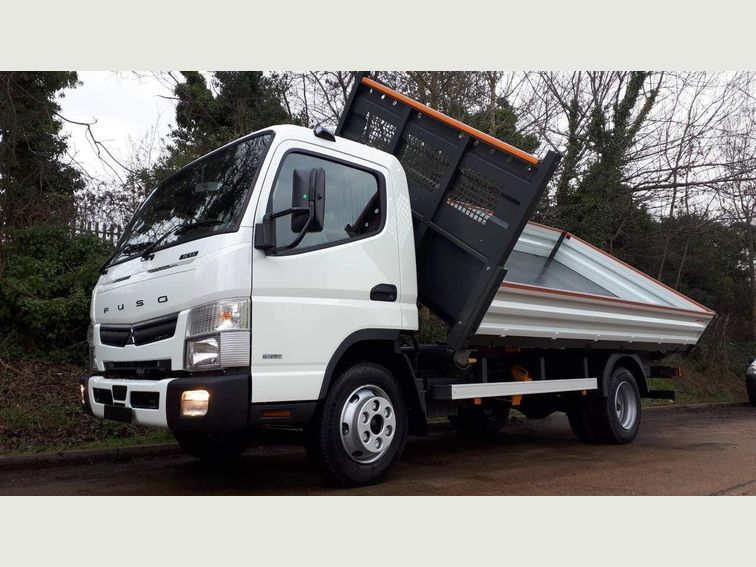Semi: (78, 70, 713, 487)
